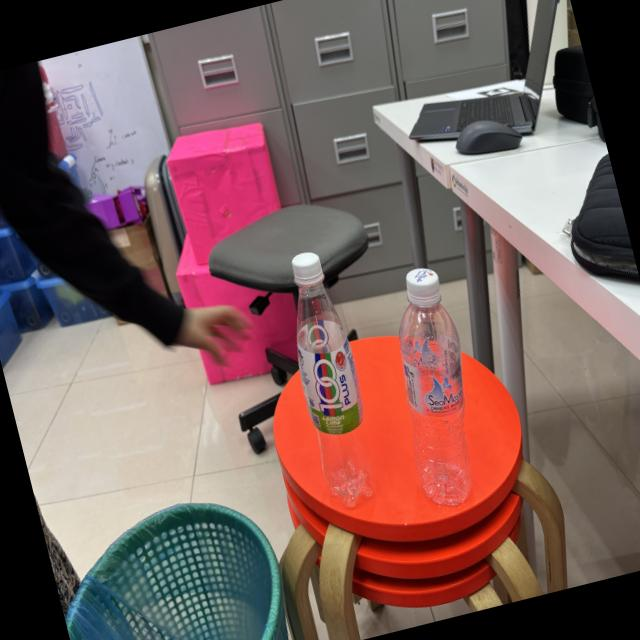dustbin: (41, 470, 303, 640)
plastic_bottle: (254, 238, 402, 522), (361, 251, 504, 518)
